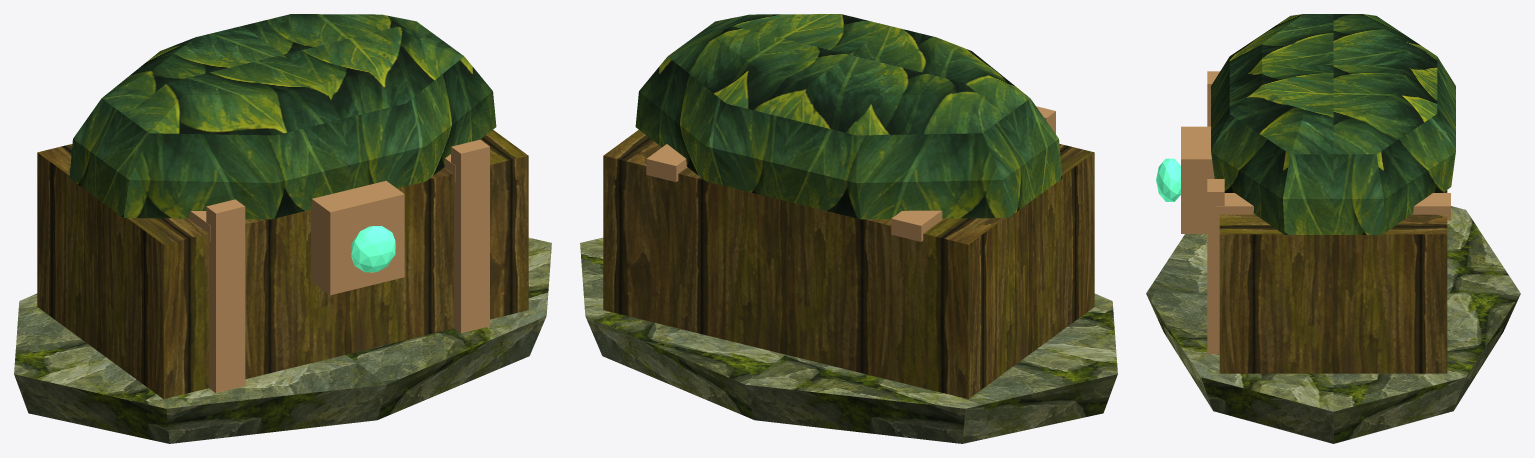
The model's file is 11-treasure-chest.glb.
3 renders of one model, left to right at view 1: azimuth 30°, elevation 25°; view 2: azimuth 150°, elevation 25°; view 3: azimuth 270°, elevation 25°, orthographic. The views are drawn at different scales.
Parts seen in each view (by area): view 1: 11-treasure-chest; view 2: 11-treasure-chest; view 3: 11-treasure-chest.
Part boxes in pixels (x1,y1,x2,y2): 11-treasure-chest: (14,14,551,443); 11-treasure-chest: (580,14,1117,443); 11-treasure-chest: (1146,14,1520,443).
Size of the model in its own units: 2.24 by 1.18 by 1.5.
5 materials, 3 textured.
